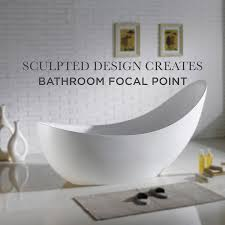bathub: (36, 81, 210, 187)
